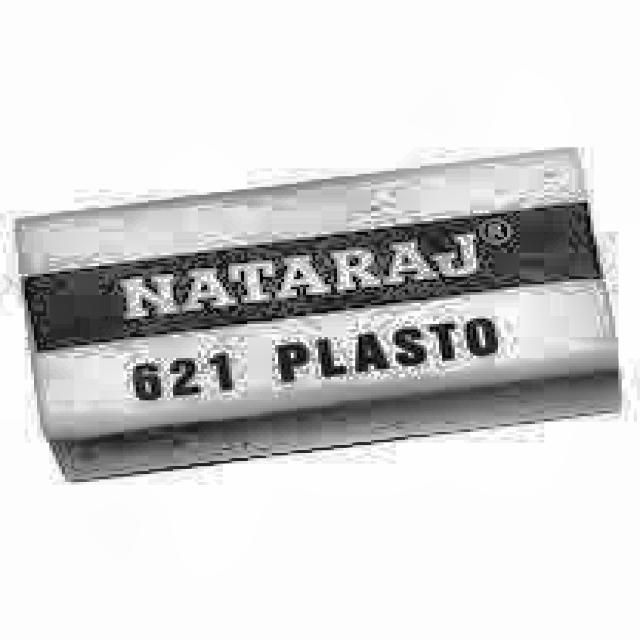eraser: (6, 142, 628, 485)
